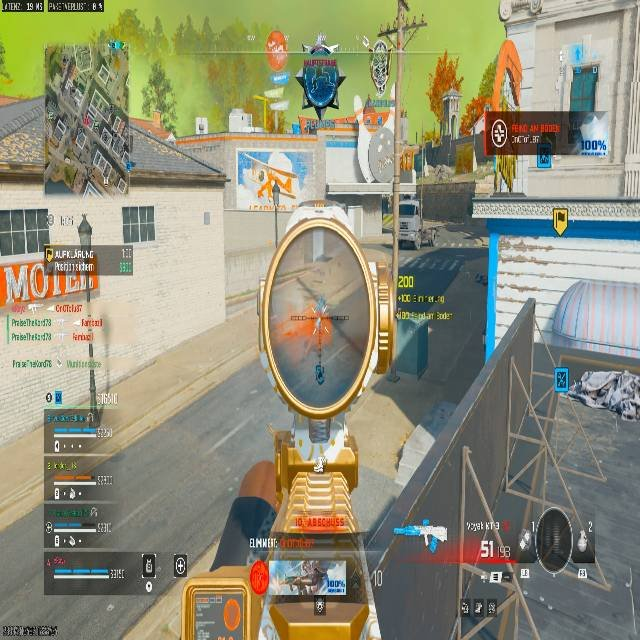player: (314, 361, 325, 385)
